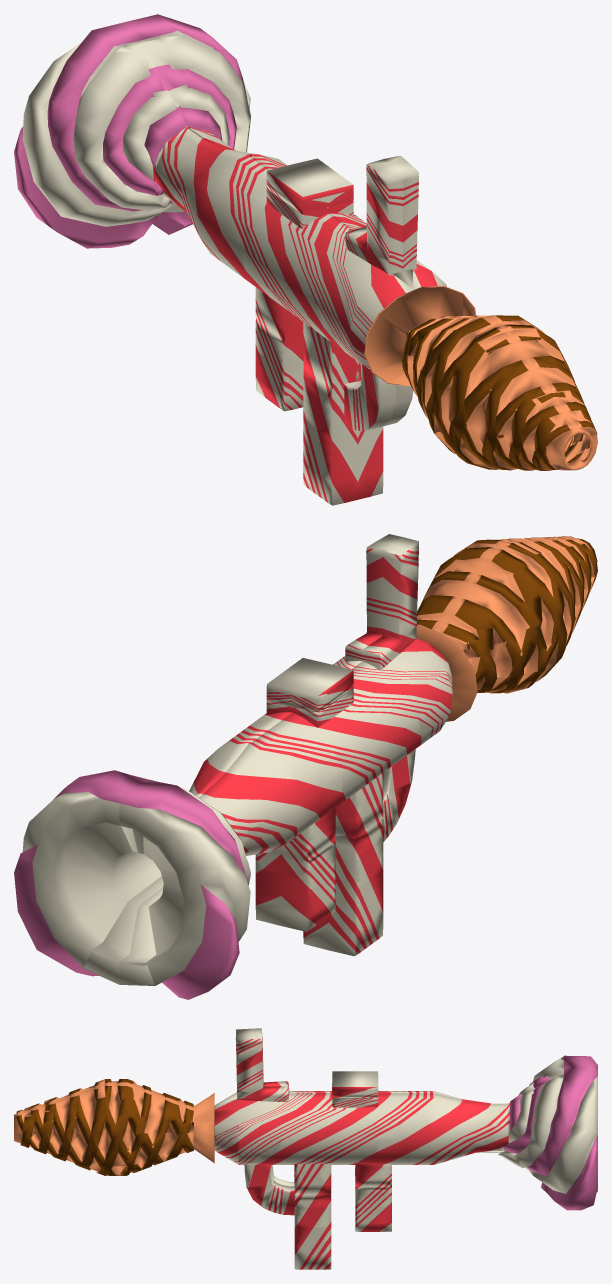
File: bazooka final joined.fbx
The picture shows the model from 3 angles, top to bottom: view 1: azimuth 30°, elevation 25°; view 2: azimuth 150°, elevation 25°; view 3: azimuth 270°, elevation 25°; orthographic projection. The views are drawn at different scales.
Visible parts, largest first — view 1: Cylinder.001; view 2: Cylinder.001; view 3: Cylinder.001.
Part boxes in pixels (<box>): Cylinder.001: <box>14,14,597,505</box>; Cylinder.001: <box>14,534,597,999</box>; Cylinder.001: <box>14,1028,597,1269</box>.
Size of the model in its own units: 0.0358 by 0.0566 by 0.1309.
